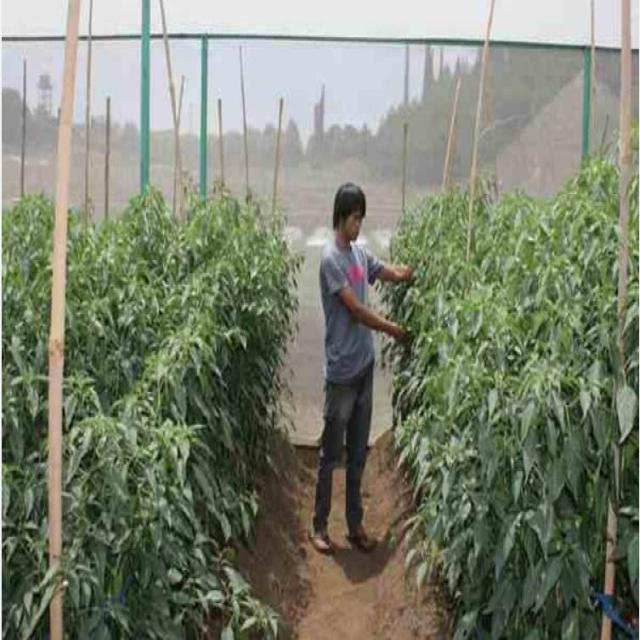row: (222, 426, 454, 640)
